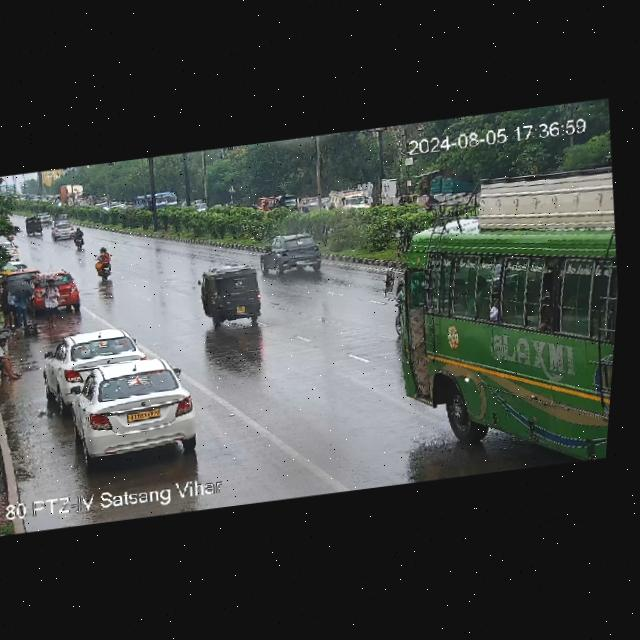bus: (361, 160, 628, 483), (132, 188, 179, 214)
car: (50, 352, 205, 465), (42, 325, 147, 394), (197, 263, 270, 326), (262, 231, 329, 278), (30, 268, 84, 311), (50, 221, 83, 239), (24, 216, 47, 237), (4, 240, 22, 262), (297, 199, 324, 213), (36, 210, 52, 225), (52, 213, 70, 224)
motorcycle: (89, 244, 119, 281), (70, 229, 90, 248)
person: (0, 277, 34, 328), (41, 278, 64, 324), (0, 334, 22, 381)
truck: (329, 189, 367, 212), (59, 184, 86, 206)
